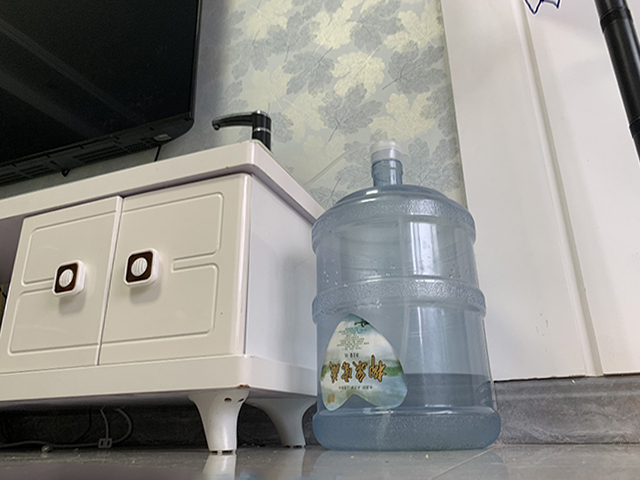cabinet: (1, 138, 326, 456)
